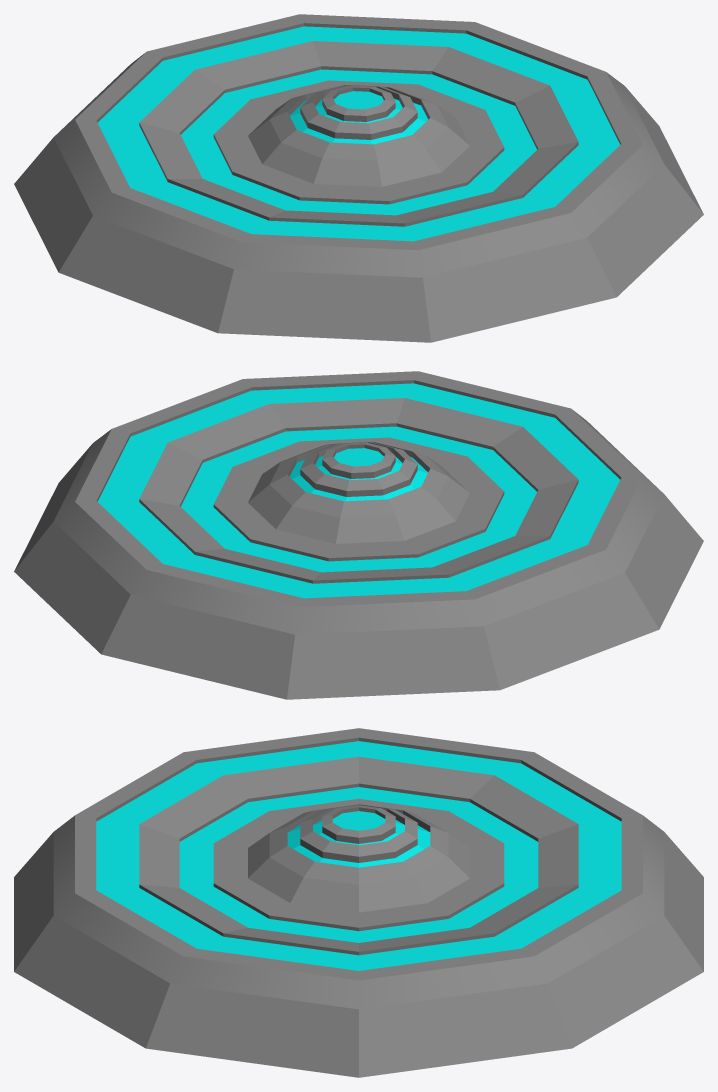
Rendered from Launch Pad.fbx.
3 views of the same model, one above another, from view 1: azimuth 30°, elevation 25°; view 2: azimuth 150°, elevation 25°; view 3: azimuth 270°, elevation 25° (orthographic). The views are drawn at different scales.
Parts seen in each view (by area): view 1: pCylinder1; view 2: pCylinder1; view 3: pCylinder1.
Boxes of the visible parts, x1,y1,x2,y2 form: pCylinder1: (14,14,703,342); pCylinder1: (14,371,703,699); pCylinder1: (14,728,703,1077).
Bounding box in the file's own units: 29.02 × 4.66 × 27.6.
